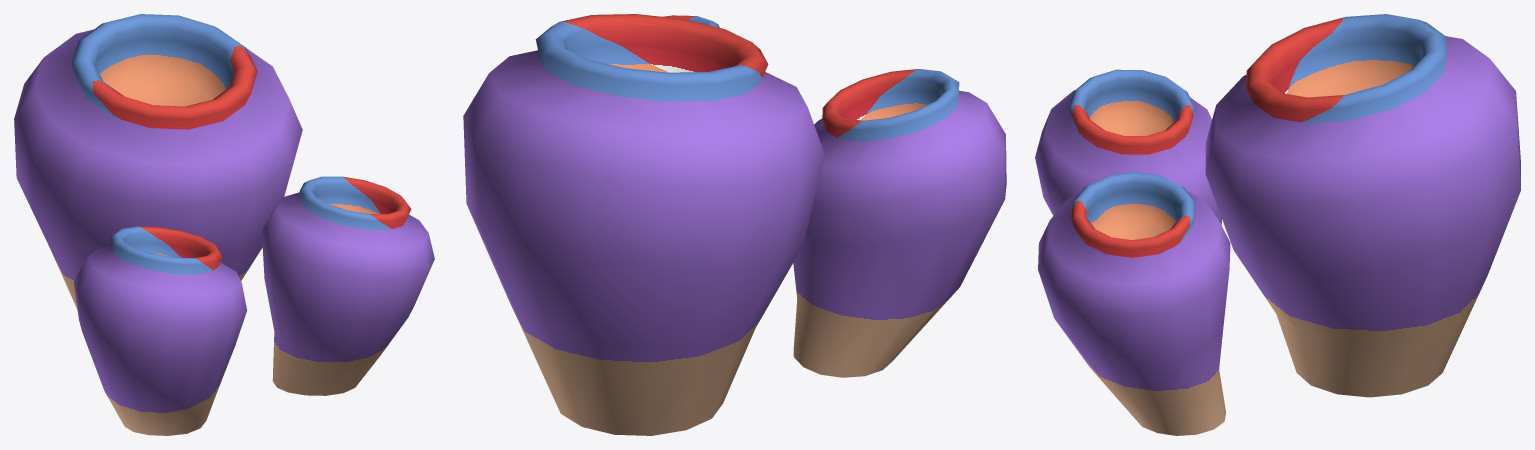
Rendered from D_CoralReef.144.glb.
3 renders of one model, left to right at view 1: azimuth 30°, elevation 25°; view 2: azimuth 150°, elevation 25°; view 3: azimuth 270°, elevation 25°, orthographic. The views are drawn at different scales.
Visible parts, largest first — view 1: D_CoralReef.144; view 2: D_CoralReef.144; view 3: D_CoralReef.144.
Part boxes in pixels (bbox=[...]): D_CoralReef.144: bbox=[14, 14, 434, 435]; D_CoralReef.144: bbox=[463, 14, 1006, 435]; D_CoralReef.144: bbox=[1035, 14, 1520, 435].
Size of the model in its own units: 0.4927 by 0.4163 by 0.5493.
Materials: 1 (1 with a texture image).
